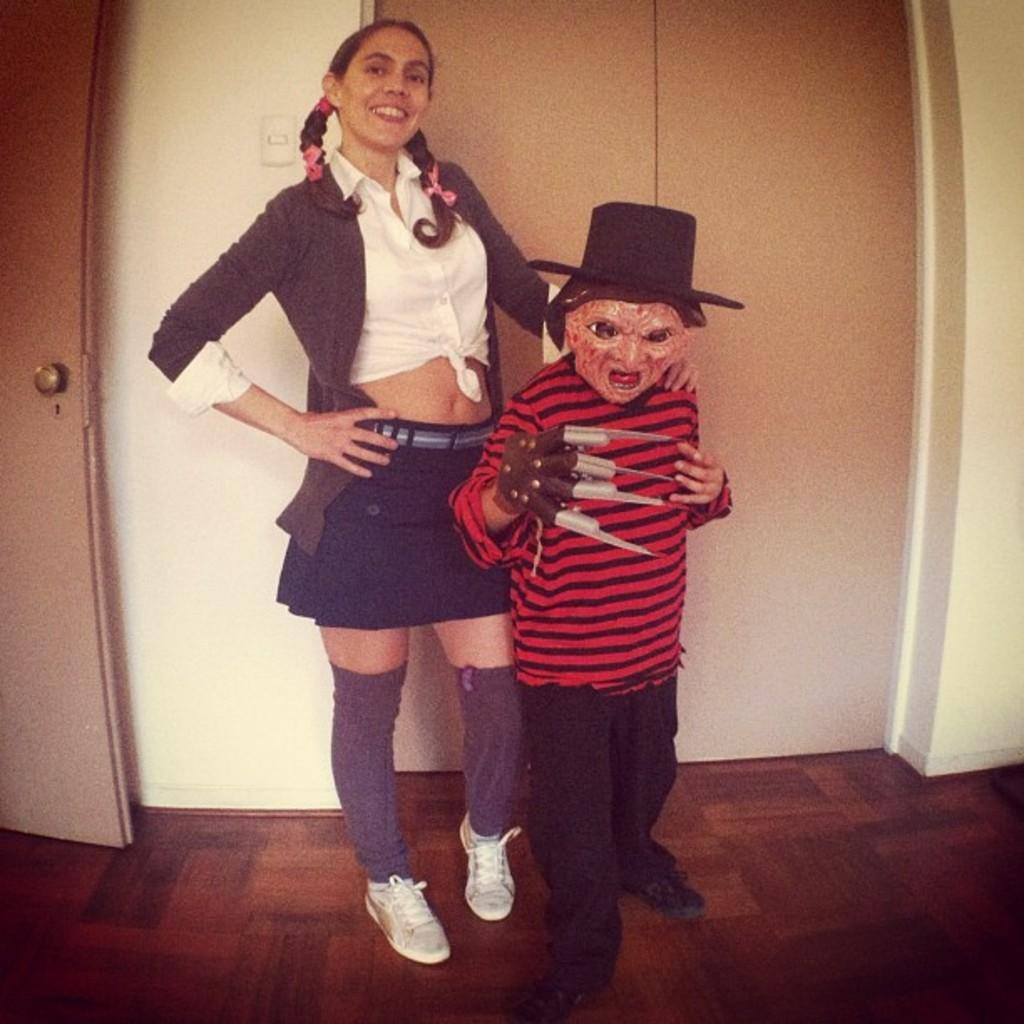Hat: (530, 198, 739, 310)
